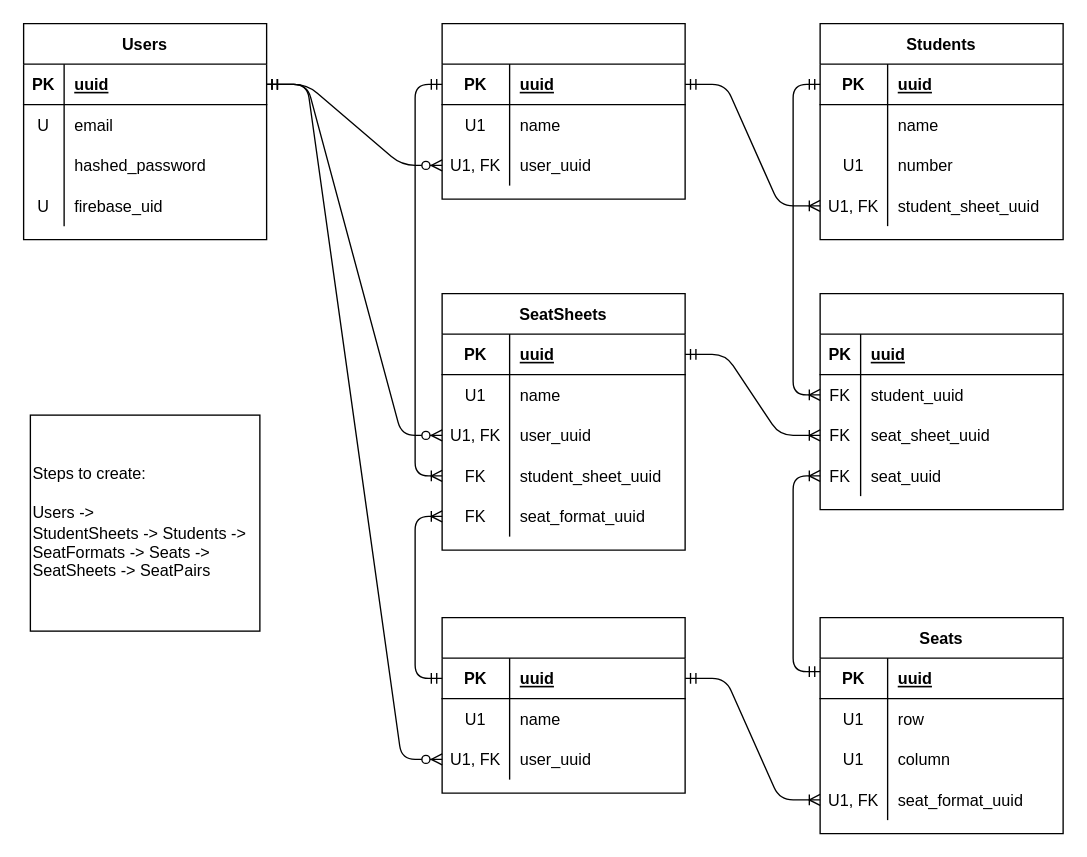
Image size: 1087x857. Some labels were removed from this diagram. The shapes that lost their labels are listed below. From the top down, each one's box as (x1, y1, x2, y2) in pixels, then its label:
(441, 22, 685, 199): StudentSheets
(819, 292, 1063, 510): SeatStudentPairs
(441, 616, 685, 793): SeatFormats
